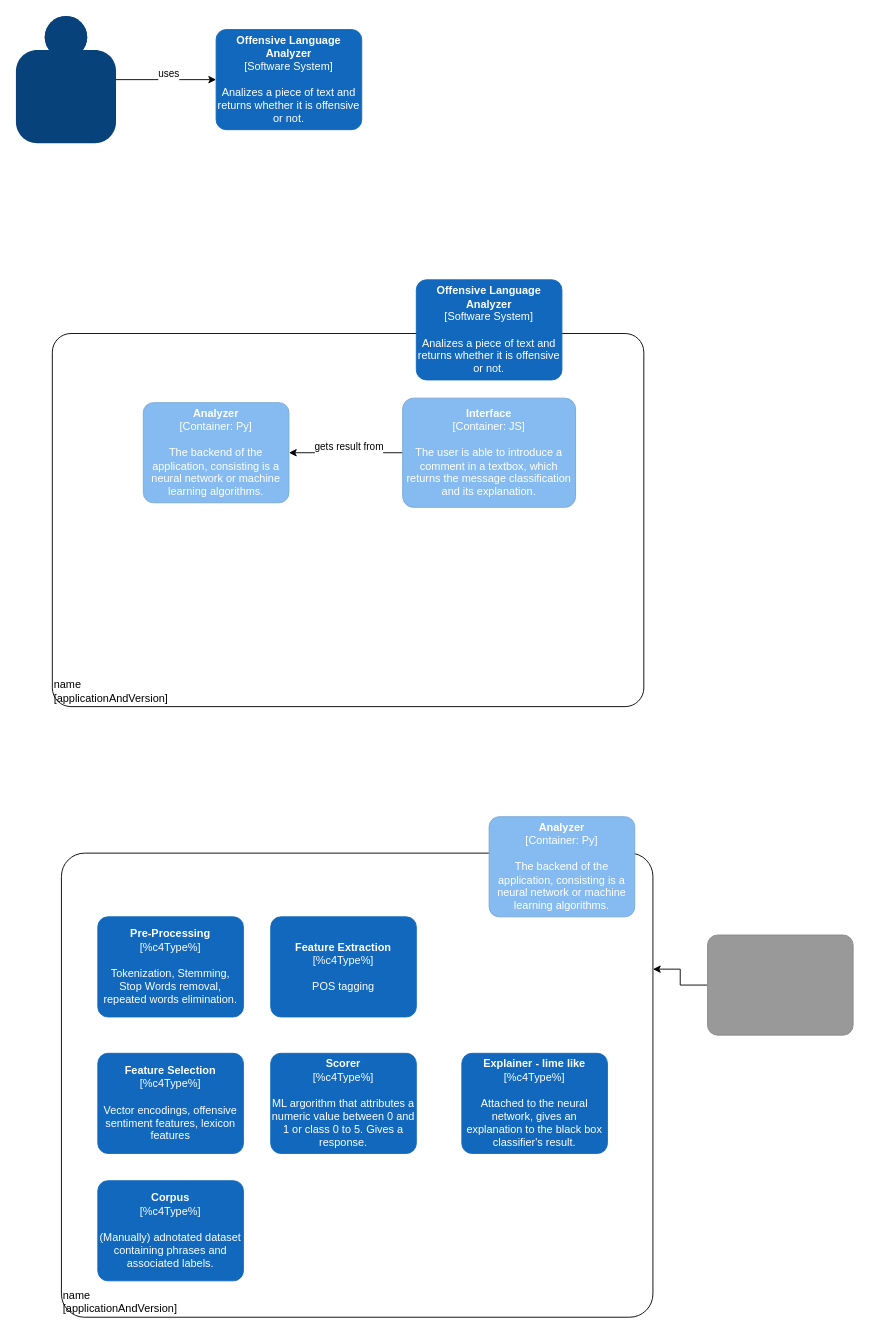
This 869x1333 diagram has some shape labels left out. Each missing label, with the centre of its shape:
Corpus [Software System] Dataset: the point at 780,984
User [%c4Type%]: the point at 65,79
